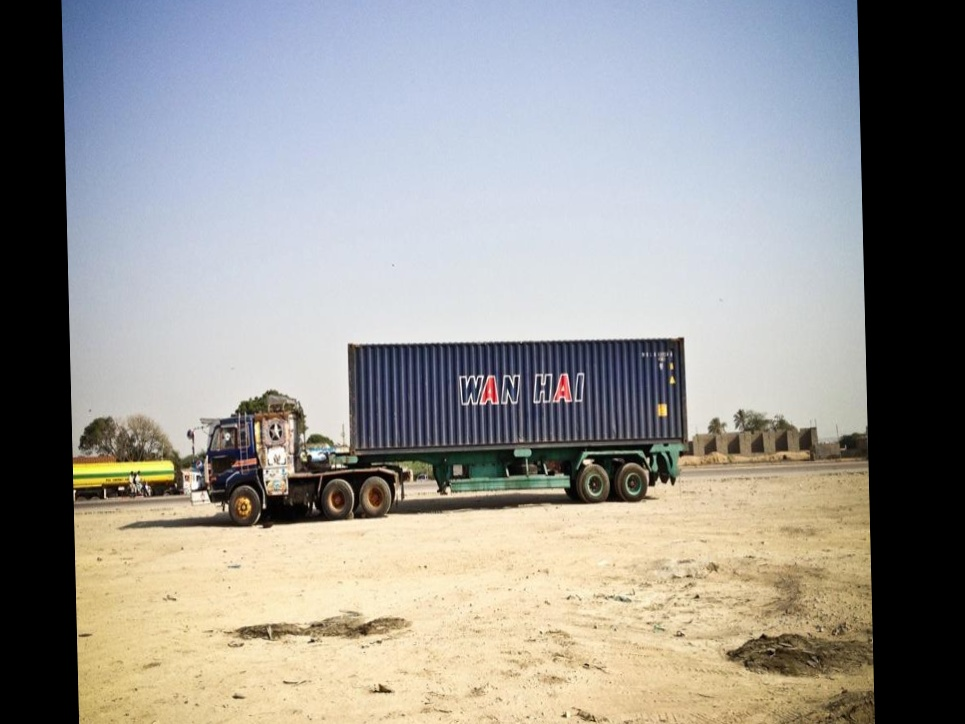truck: (201, 333, 689, 527)
